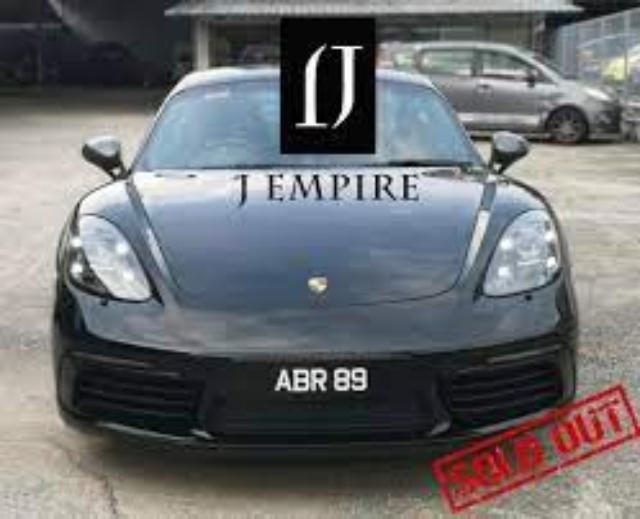License_Plate: (237, 354, 414, 403)
